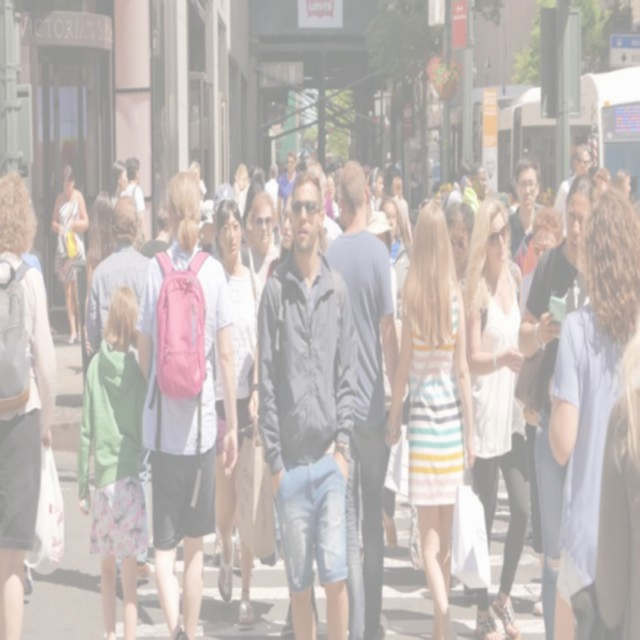pessoa: (508, 152, 640, 639), (130, 164, 240, 639), (255, 168, 358, 639), (542, 182, 640, 638), (384, 201, 478, 639), (516, 169, 600, 639), (323, 157, 403, 639), (458, 186, 537, 638), (74, 278, 162, 638), (264, 186, 328, 638), (86, 193, 156, 590), (0, 171, 57, 638), (135, 186, 202, 534), (212, 198, 264, 630), (576, 311, 640, 638), (522, 204, 566, 619), (84, 192, 153, 359), (51, 154, 92, 350), (206, 161, 284, 264), (438, 149, 493, 279), (552, 140, 633, 213), (375, 410, 408, 578), (364, 160, 412, 268), (238, 189, 284, 295), (242, 188, 282, 291), (120, 154, 148, 253), (138, 195, 177, 262), (210, 514, 247, 578), (274, 150, 300, 228), (110, 158, 130, 250), (188, 158, 206, 252), (324, 162, 342, 218), (507, 178, 521, 205), (270, 192, 284, 217), (244, 192, 256, 212), (241, 211, 249, 232)
